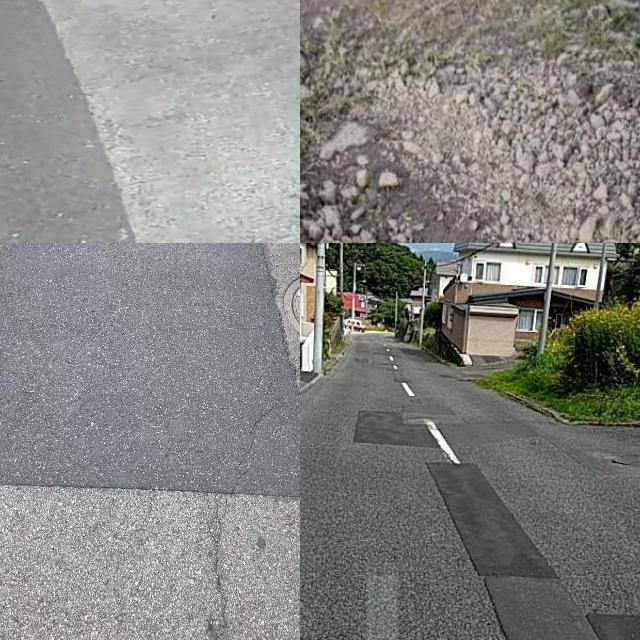Pinggir: (300, 47, 548, 243)
Sambungan: (0, 243, 300, 499), (0, 0, 132, 243), (429, 462, 599, 640), (356, 411, 439, 443)
